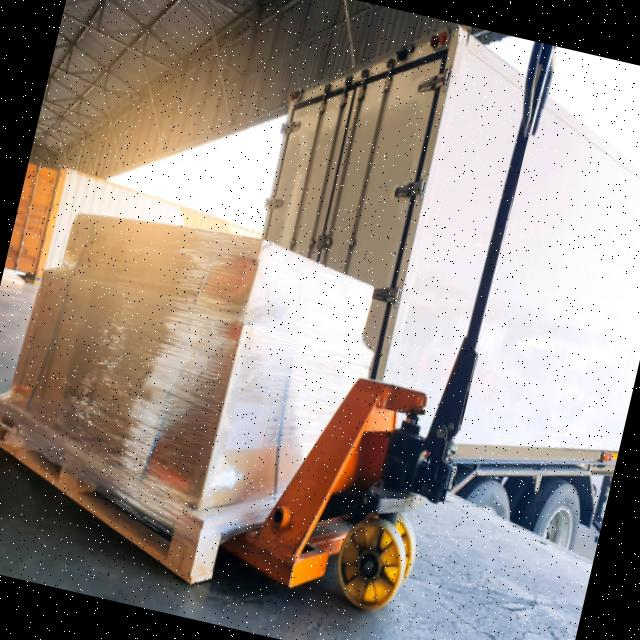Wooden-Pallets: (0, 389, 224, 601)
